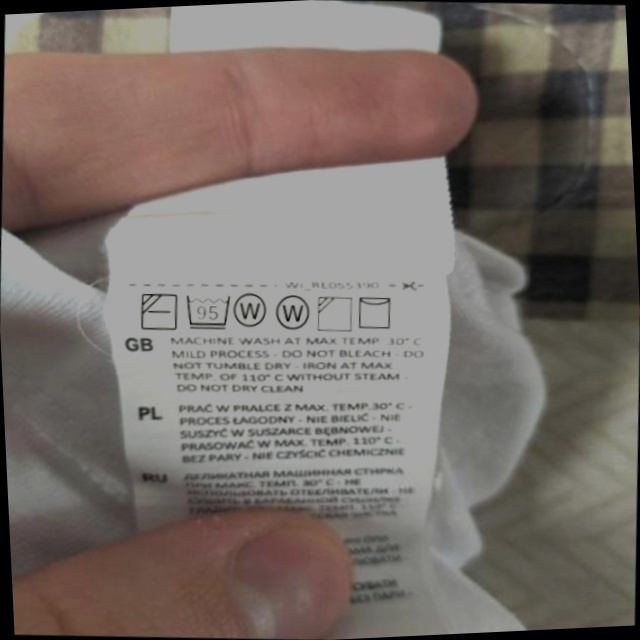95C: (182, 289, 234, 333)
dry_flat_in_shade: (137, 288, 181, 334)
line_dry: (354, 291, 397, 333)
shade_dry: (314, 292, 356, 335)
wet_clean: (273, 291, 313, 335), (232, 287, 271, 331)
